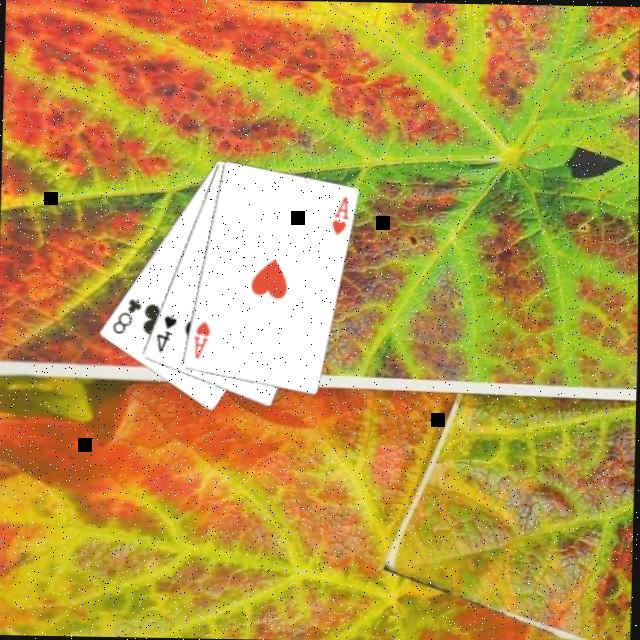4S: (154, 313, 181, 357)
8C: (110, 294, 146, 338)
AH: (329, 194, 354, 238), (191, 319, 214, 362)
